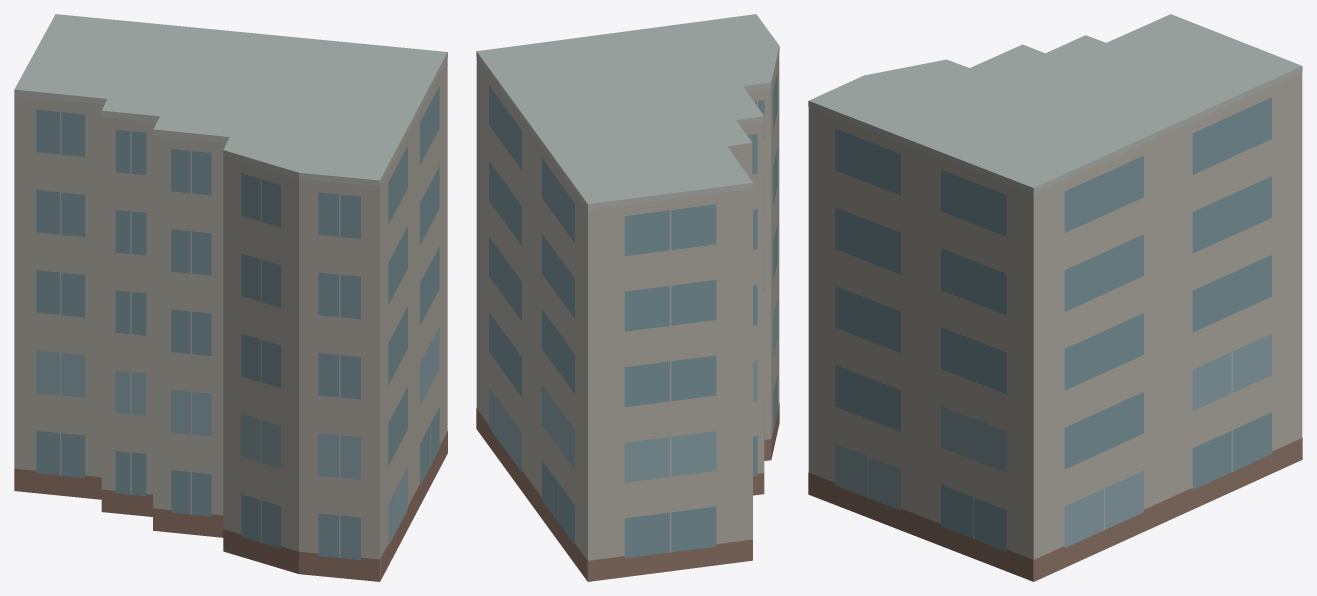
Rendered from survey-upis-32883707.glb.
3 renders of one model, left to right at view 1: azimuth 30°, elevation 25°; view 2: azimuth 150°, elevation 25°; view 3: azimuth 270°, elevation 25°, orthographic. The views are drawn at different scales.
Parts seen in each view (by area): view 1: survey-upis-32883707.tmp; view 2: survey-upis-32883707.tmp; view 3: survey-upis-32883707.tmp.
Part boxes in pixels (bbox=[...]): survey-upis-32883707.tmp: bbox=[14, 14, 447, 581]; survey-upis-32883707.tmp: bbox=[476, 14, 779, 581]; survey-upis-32883707.tmp: bbox=[808, 14, 1302, 581].
Bounding box in the file's own units: 15.23 × 16.05 × 18.25.
